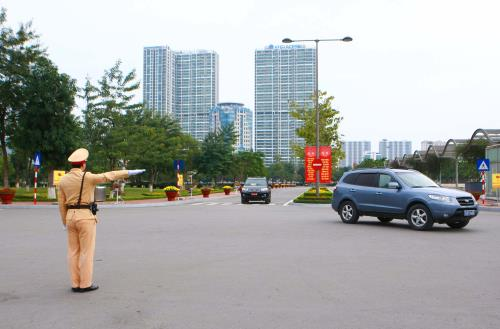police: (46, 149, 148, 296)
